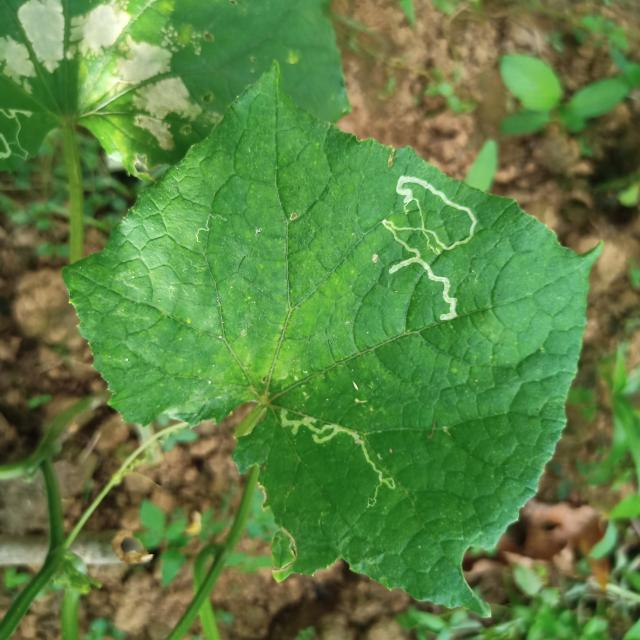disease_cucumber: (2, 2, 217, 155)
